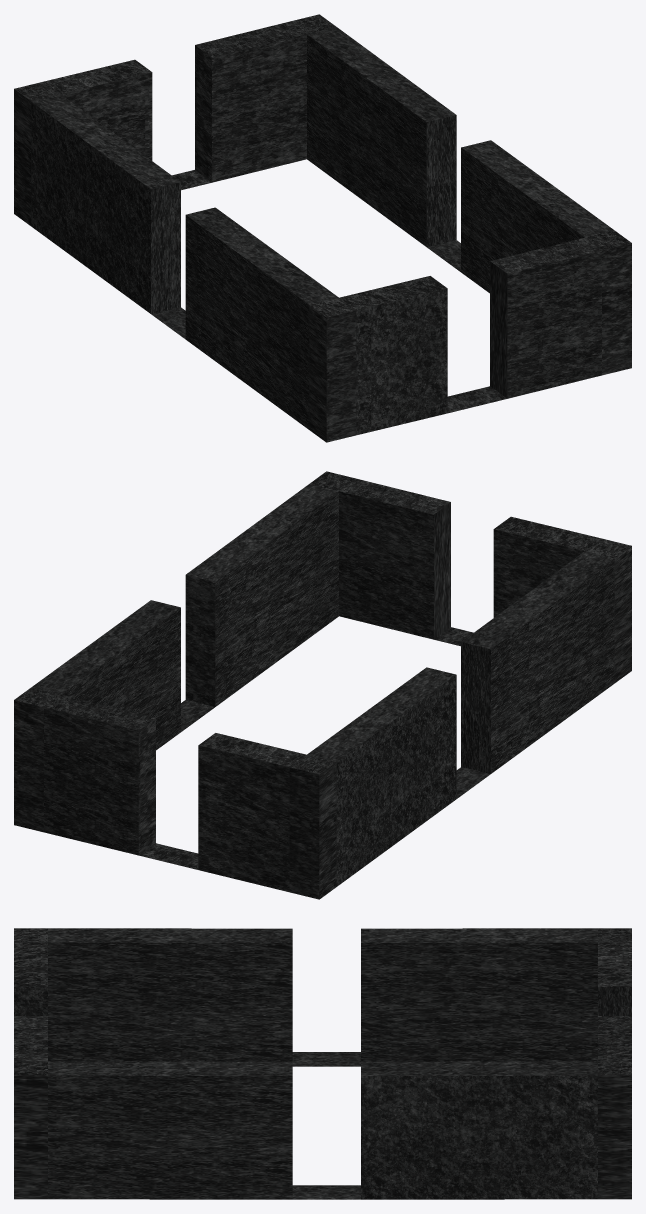
File: TOO - Room - Wall.fbx
3 renders of one model, top to bottom at view 1: azimuth 30°, elevation 25°; view 2: azimuth 150°, elevation 25°; view 3: azimuth 270°, elevation 25°, orthographic.
Parts seen in each view (by area): view 1: Wall001; view 2: Wall001; view 3: Wall001.
Part boxes in pixels (left/top/right/bottom): Wall001: left=14, top=14, right=631, bottom=442; Wall001: left=14, top=471, right=631, bottom=899; Wall001: left=14, top=928, right=631, bottom=1199.
Bounding box in the file's own units: 403 × 158 × 713.
1 material, 1 textured.
